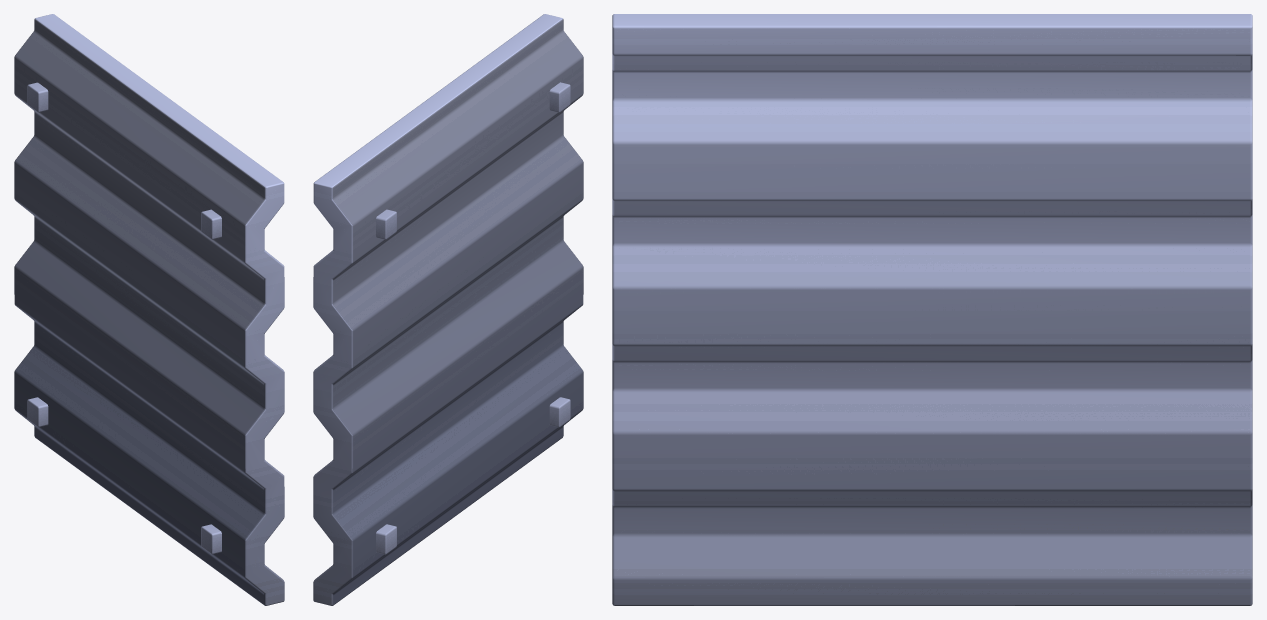
Rendered from plating-detailed.glb.
3 renders of one model, left to right at view 1: azimuth 30°, elevation 25°; view 2: azimuth 150°, elevation 25°; view 3: azimuth 270°, elevation 25°, orthographic. The views are drawn at different scales.
Visible parts, largest first — view 1: plating-detailed; view 2: plating-detailed; view 3: plating-detailed.
Boxes of the visible parts, x1,y1,x2,y2 form: plating-detailed: (14,14,284,605); plating-detailed: (313,14,583,605); plating-detailed: (612,14,1252,605).
Bounding box in the file's own units: 0.125 × 1 × 1.
Materials: 1 (1 with a texture image).
